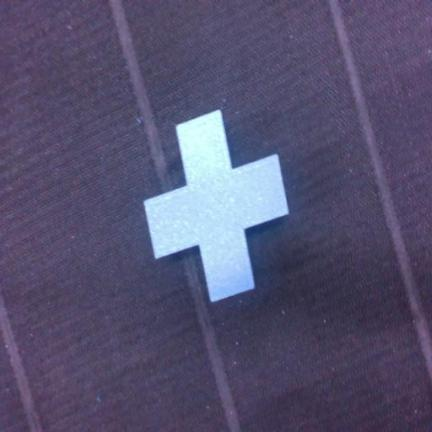cross: (145, 111, 288, 301)
